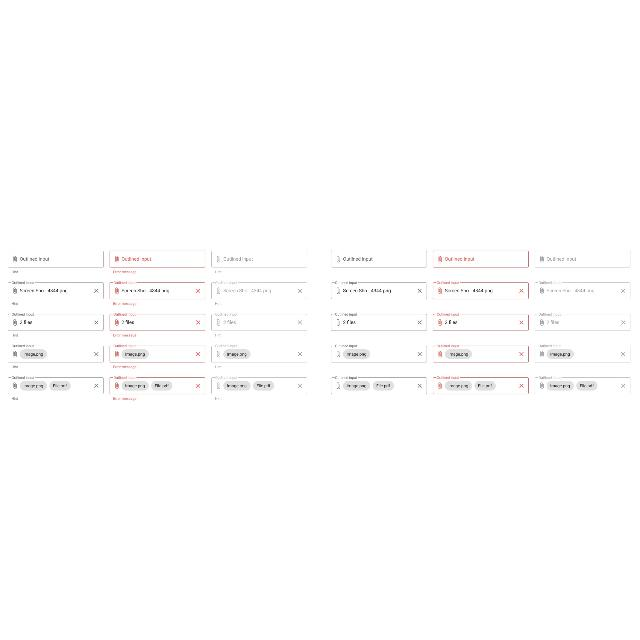VFileInput: (210, 249, 308, 273), (210, 280, 308, 304), (210, 312, 308, 336), (108, 376, 205, 400), (8, 280, 104, 304), (8, 312, 104, 336), (8, 344, 104, 368), (8, 376, 104, 400), (110, 344, 206, 368), (110, 312, 206, 336), (110, 280, 206, 304), (110, 249, 206, 273), (211, 344, 307, 368), (211, 376, 307, 400), (8, 250, 104, 272), (432, 280, 530, 300), (432, 312, 530, 331), (432, 343, 530, 362), (534, 312, 630, 331), (330, 249, 428, 267), (330, 280, 428, 298), (330, 376, 428, 394), (534, 344, 632, 362), (331, 312, 427, 330), (331, 344, 427, 362), (433, 249, 529, 267), (433, 376, 529, 394), (534, 376, 630, 394), (534, 281, 630, 299), (535, 249, 631, 267)
